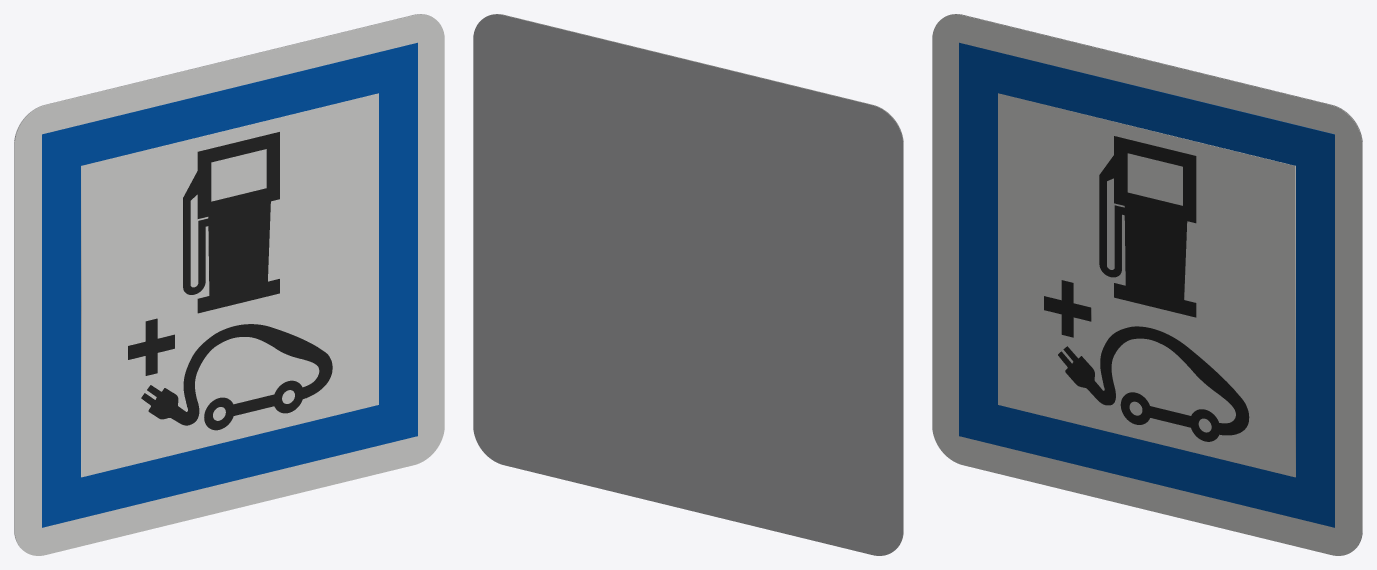
3 views of the same model, side by side, from view 1: azimuth 30°, elevation 25°; view 2: azimuth 150°, elevation 25°; view 3: azimuth 330°, elevation 25° (orthographic).
Visible parts, largest first — view 1: CE15g_p02, CE15g_p01, CE15g_p00, CE15g_p04, CE15g_p03, CE15g_p05, CE15g_dos; view 2: CE15g_dos, CE15g_p00; view 3: CE15g_p02, CE15g_p01, CE15g_p00, CE15g_p04, CE15g_p03, CE15g_p05, CE15g_dos.
Boxes of the visible parts, x1,y1,x2,y2 form: CE15g_p02: (81, 93, 378, 477); CE15g_p01: (42, 42, 417, 527); CE15g_p00: (14, 14, 444, 555); CE15g_p04: (183, 132, 279, 313); CE15g_p03: (141, 324, 332, 430); CE15g_p05: (128, 318, 174, 375); CE15g_dos: (14, 14, 431, 547); CE15g_dos: (473, 14, 903, 555); CE15g_p00: (486, 14, 903, 547); CE15g_p02: (998, 93, 1295, 477); CE15g_p01: (959, 42, 1334, 527); CE15g_p00: (932, 14, 1362, 555); CE15g_p04: (1099, 136, 1196, 317); CE15g_p03: (1058, 326, 1249, 441); CE15g_p05: (1044, 280, 1091, 337); CE15g_dos: (945, 14, 1362, 547).
Bounding box in the file's own units: 0.7 × 0.6999 × 0.0039.
